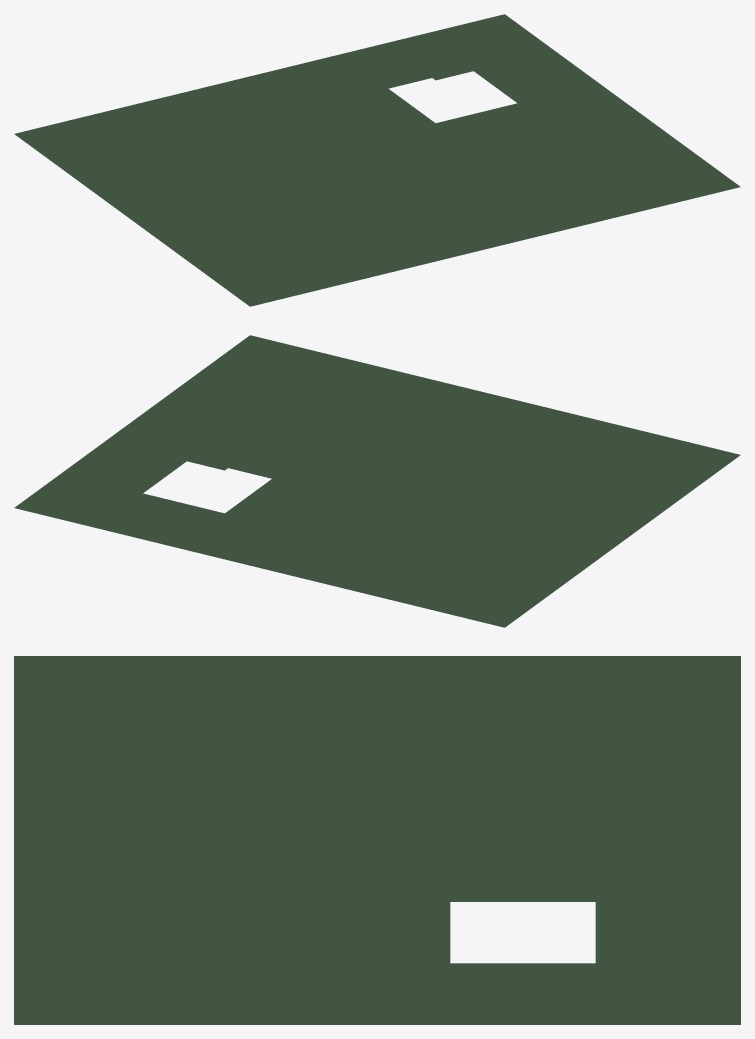
3 renders of one model, top to bottom at view 1: azimuth 30°, elevation 25°; view 2: azimuth 150°, elevation 25°; view 3: azimuth 270°, elevation 25°, orthographic. The views are drawn at different scales.
Visible parts, largest first — view 1: scenery; view 2: scenery; view 3: scenery.
Part boxes in pixels (x1,y1,x2,y2): scenery: (14,14,740,306); scenery: (14,335,740,627); scenery: (14,656,740,1024).
Bounding box in the file's own units: 12 × 1 × 10.
